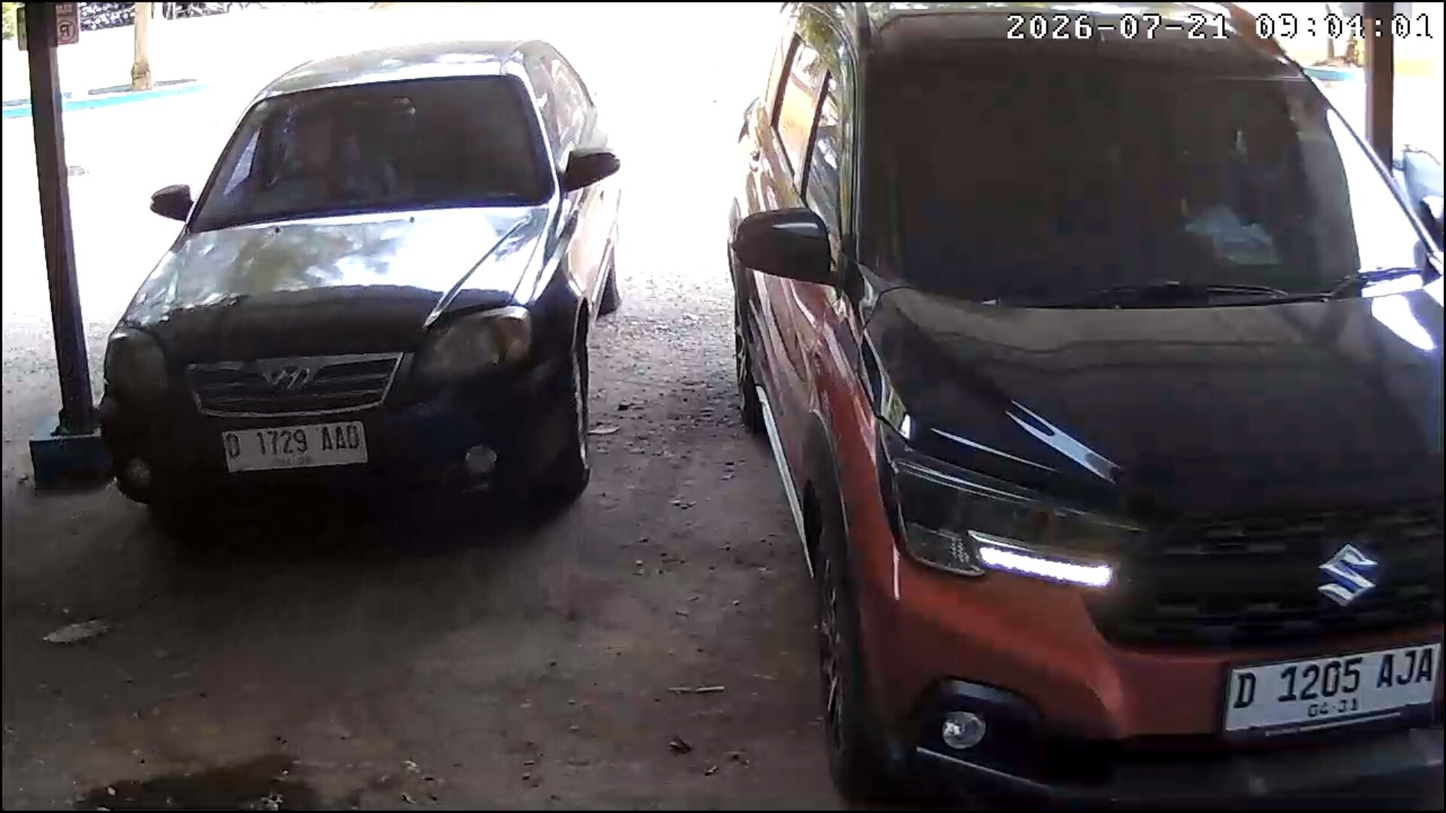plat nomor: (1224, 642, 1442, 733), (218, 420, 371, 476)
